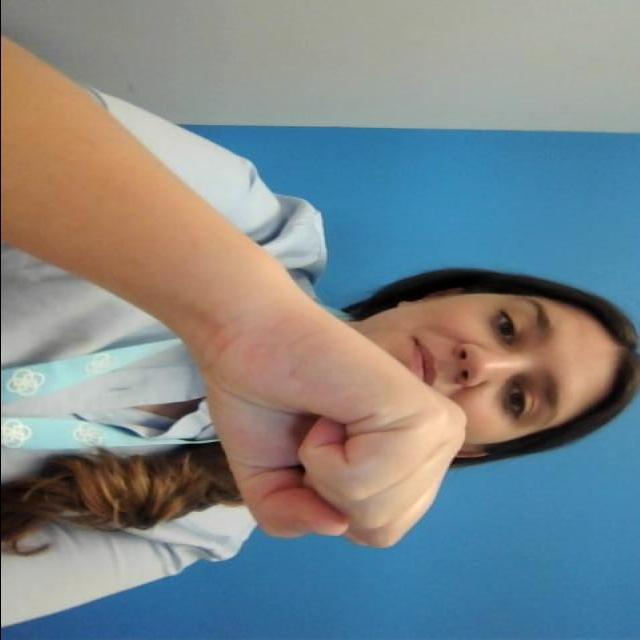Rock: (184, 302, 470, 558)
